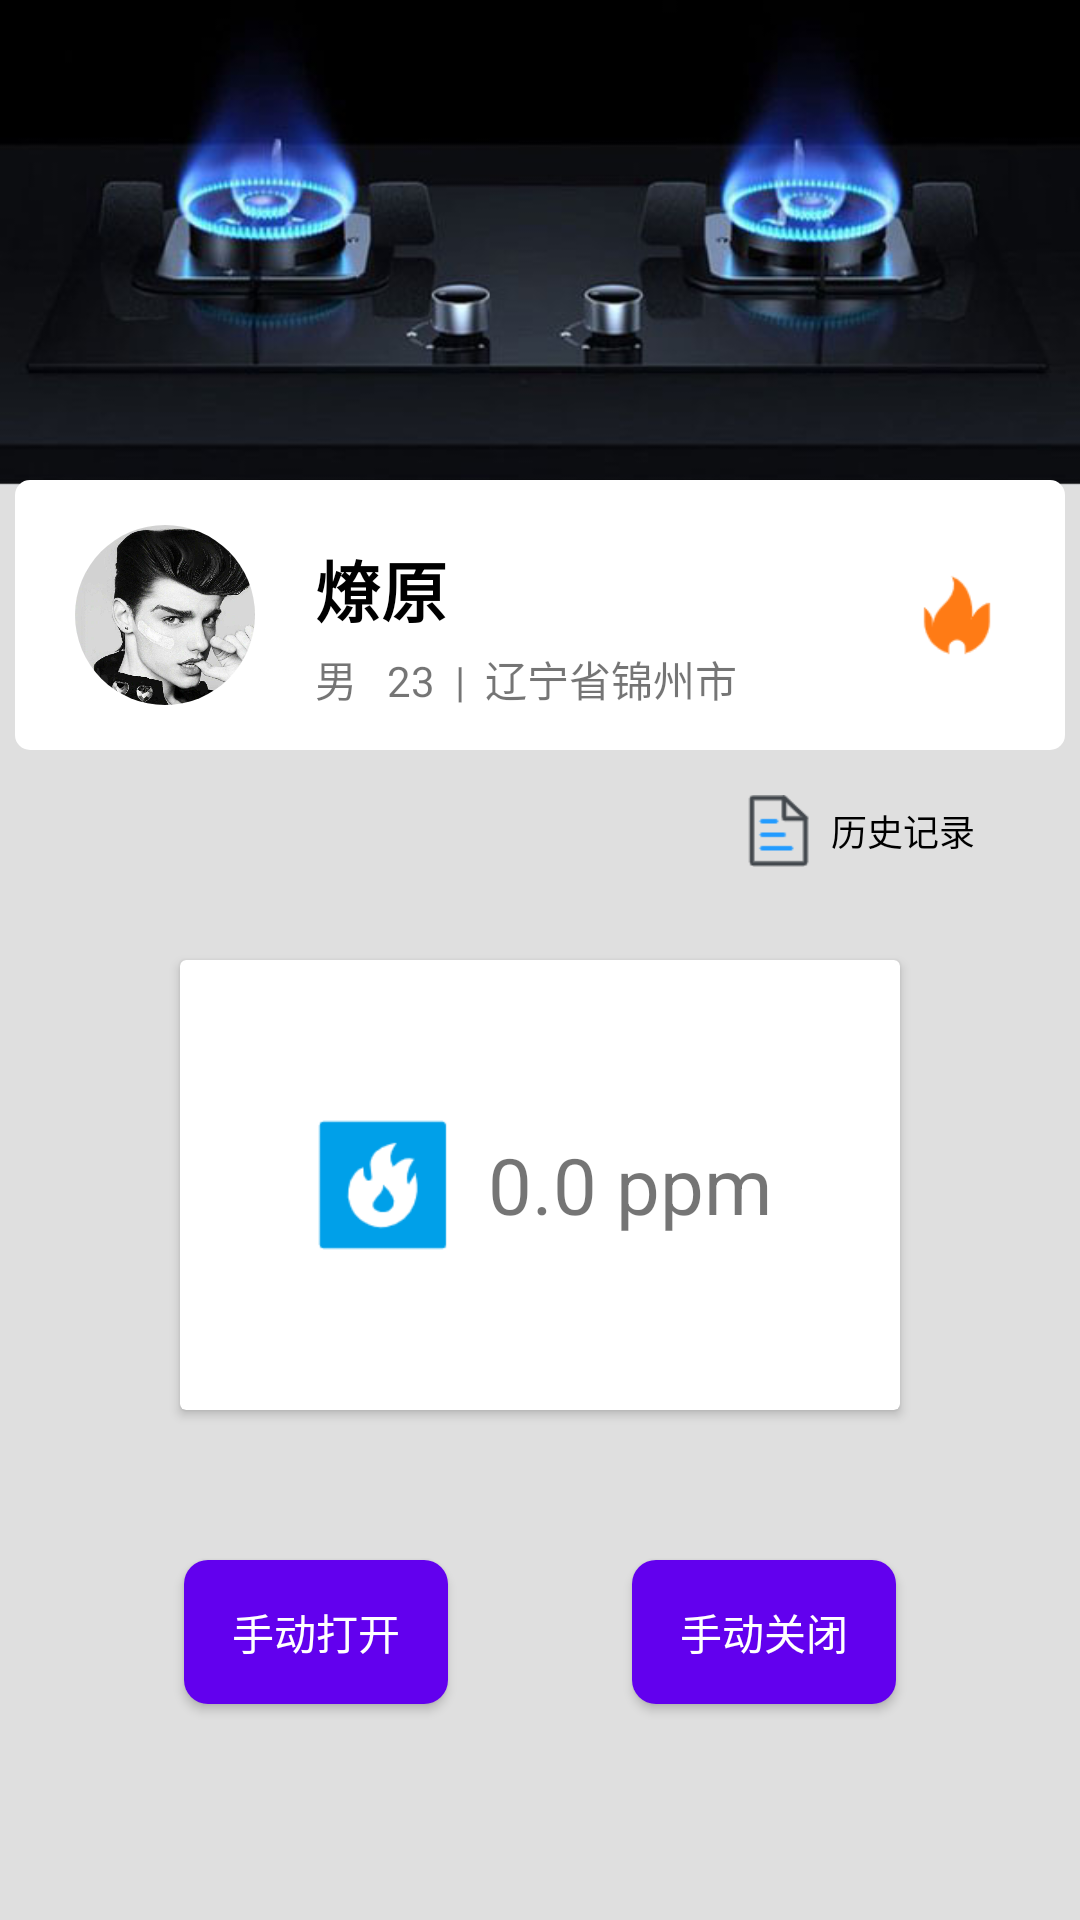

Icons on this 1080 × 1920 Android screen, each with the point to tap as [x,y]:
fires: [957,615]
